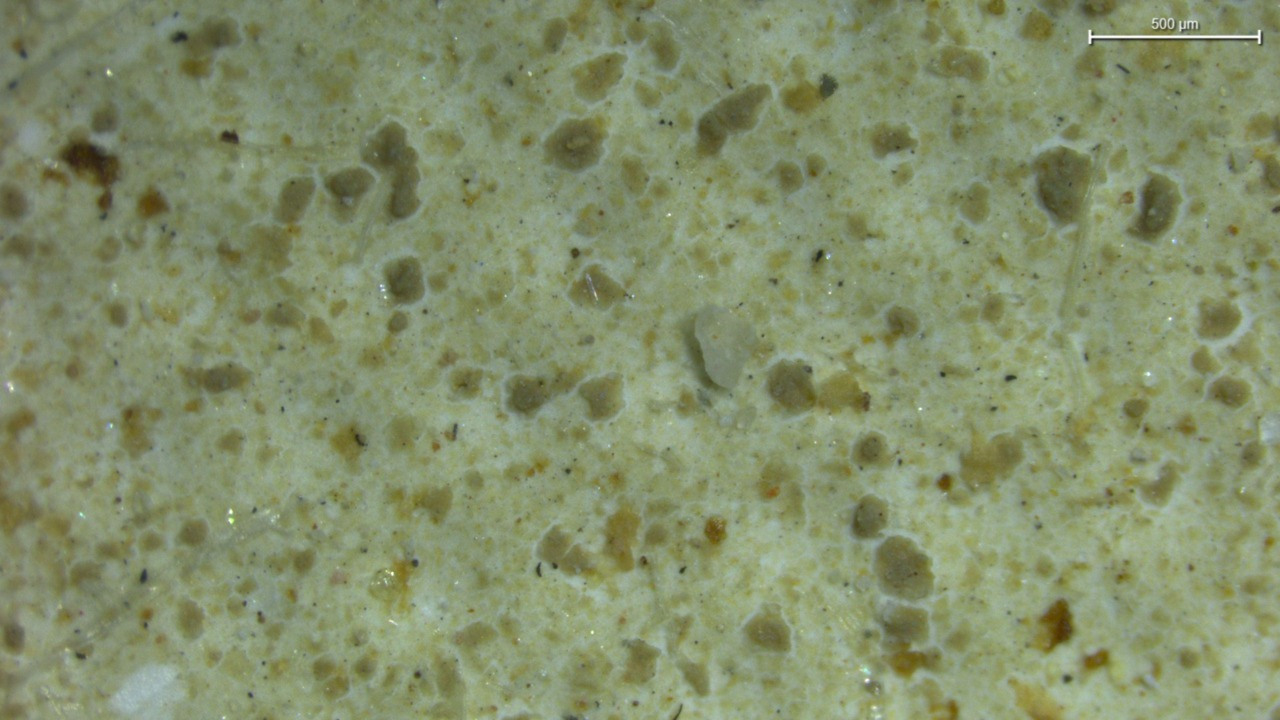microplastic_fragment: (693, 306, 757, 389)
